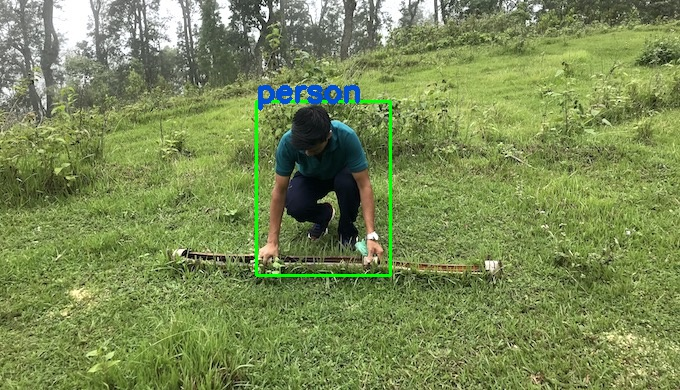person: (255, 100, 390, 274)
